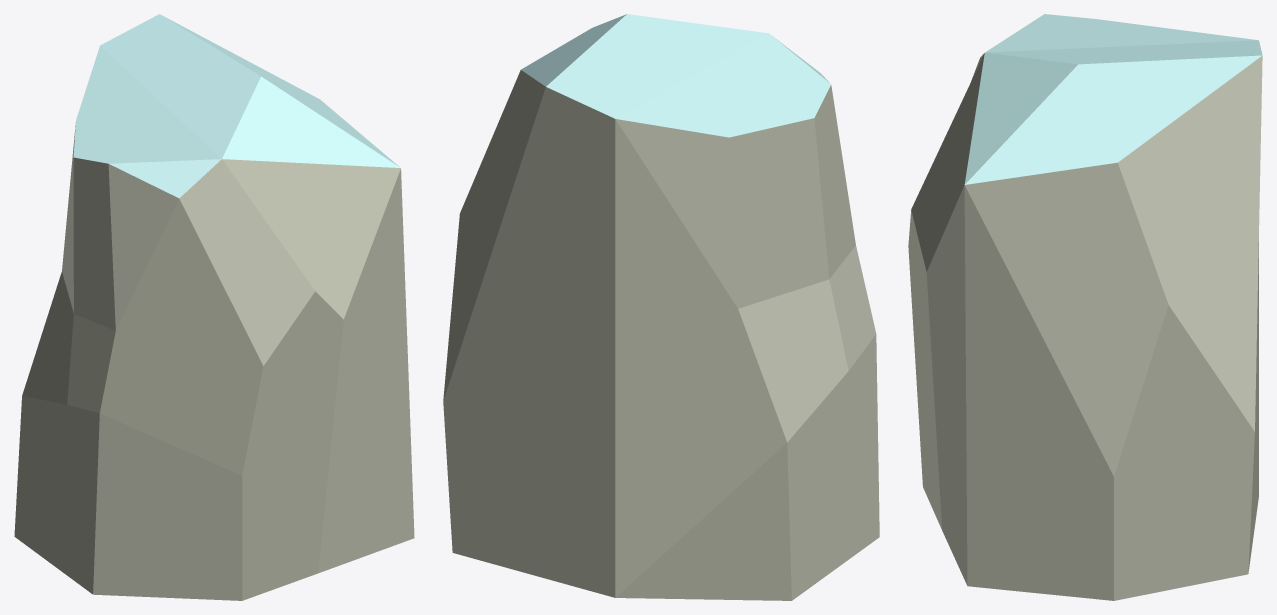
File: rock3.fbx
3 views of the same model, side by side, from view 1: azimuth 30°, elevation 25°; view 2: azimuth 150°, elevation 25°; view 3: azimuth 270°, elevation 25° (orthographic). The views are drawn at different scales.
Parts seen in each view (by area): view 1: rock3; view 2: rock3; view 3: rock3.
Part boxes in pixels (bbox=[...]): rock3: bbox=[14, 14, 414, 600]; rock3: bbox=[443, 14, 879, 600]; rock3: bbox=[908, 14, 1262, 600].
Size of the model in its own units: 7.72 by 6.88 by 10.12.
